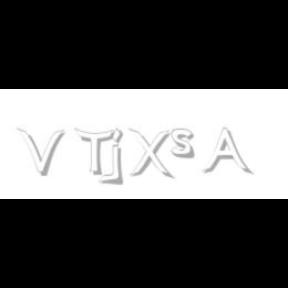A: (202, 128, 250, 176)
T: (74, 128, 114, 176)
V: (17, 128, 65, 176)
X: (128, 128, 172, 180)
j: (108, 128, 138, 186)
s: (171, 128, 199, 160)
